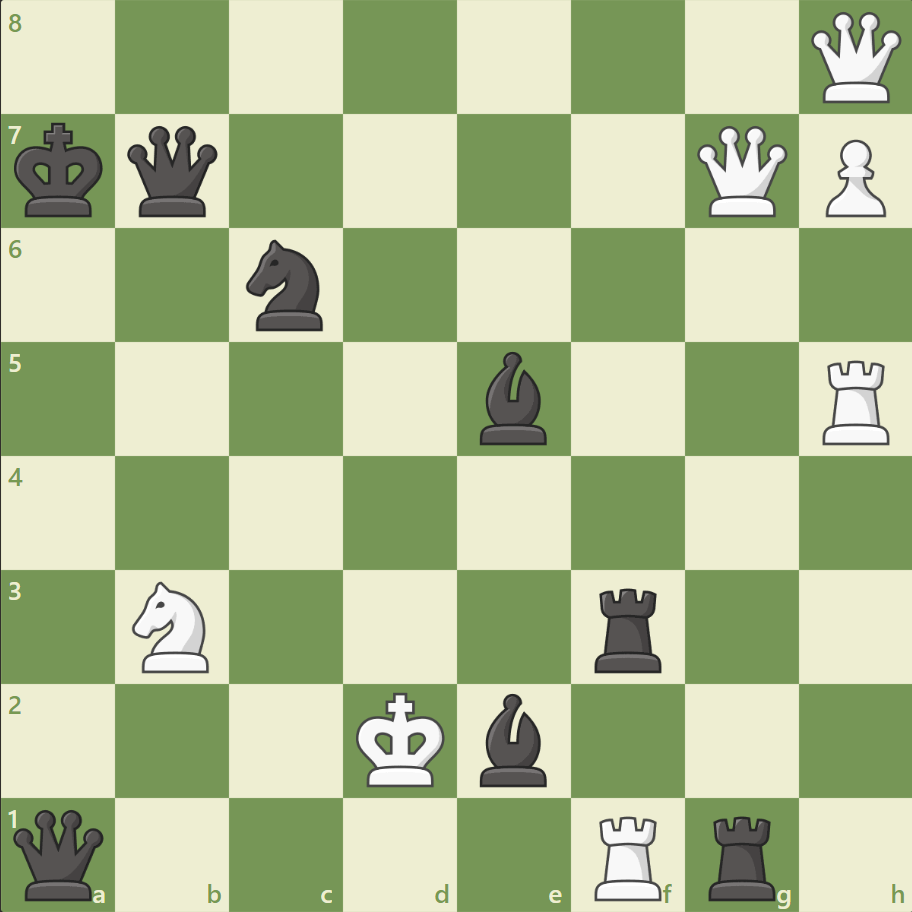K: (351, 685, 451, 793)
N: (124, 575, 222, 677)
P: (815, 132, 889, 223)
Q: (691, 122, 790, 222), (805, 9, 904, 108)
R: (587, 806, 670, 904), (814, 352, 897, 449)
b: (471, 687, 555, 790), (471, 347, 555, 449)
k: (11, 117, 111, 225)
n: (238, 234, 335, 337)
q: (124, 122, 223, 222), (10, 804, 109, 903)
r: (700, 806, 783, 904), (587, 579, 670, 676)
